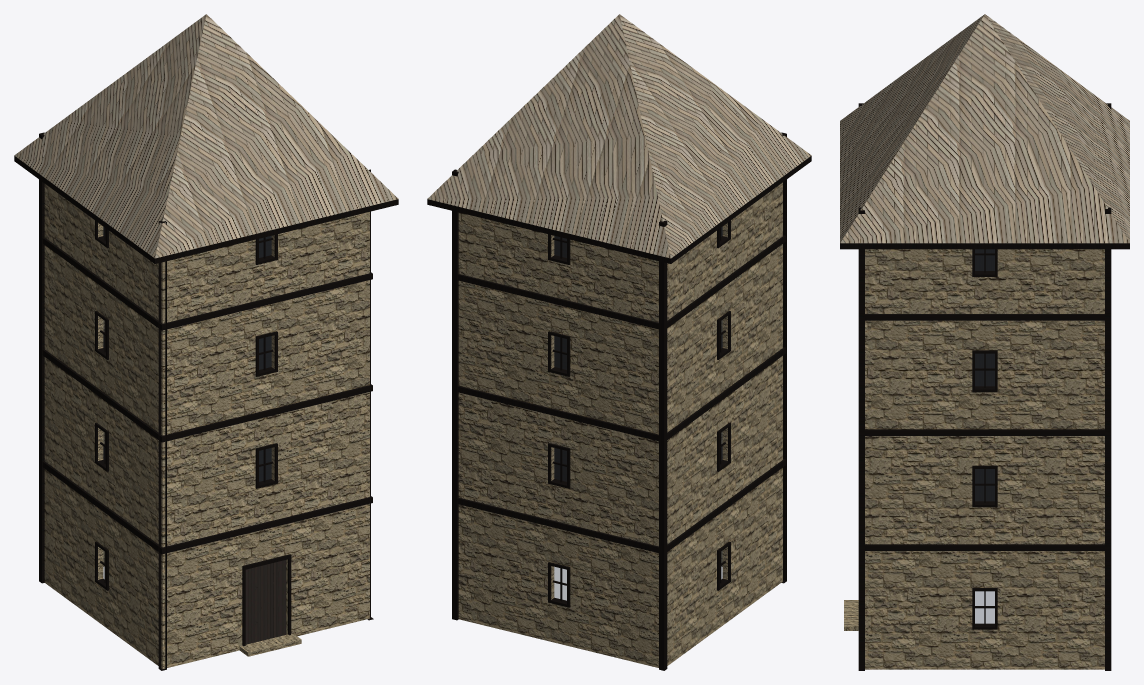
Rendered from stone_tower_01.glb.
3 views of the same model, side by side, from view 1: azimuth 30°, elevation 25°; view 2: azimuth 150°, elevation 25°; view 3: azimuth 270°, elevation 25° (orthographic). The views are drawn at different scales.
Visible parts, largest first — view 1: stone_tower_01; view 2: stone_tower_01; view 3: stone_tower_01.
Boxes of the visible parts, x1=… form: stone_tower_01: x1=14, y1=14, x2=398, y2=670; stone_tower_01: x1=427, y1=14, x2=811, y2=670; stone_tower_01: x1=840, y1=14, x2=1129, y2=670.
Size of the model in its own units: 7.3 by 16.77 by 7.3.
Materials: 5 (4 with a texture image).
